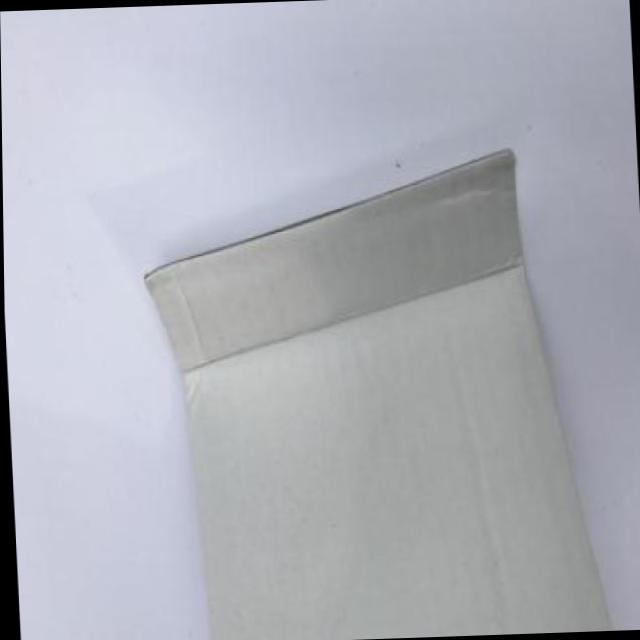box: (137, 134, 627, 640)
